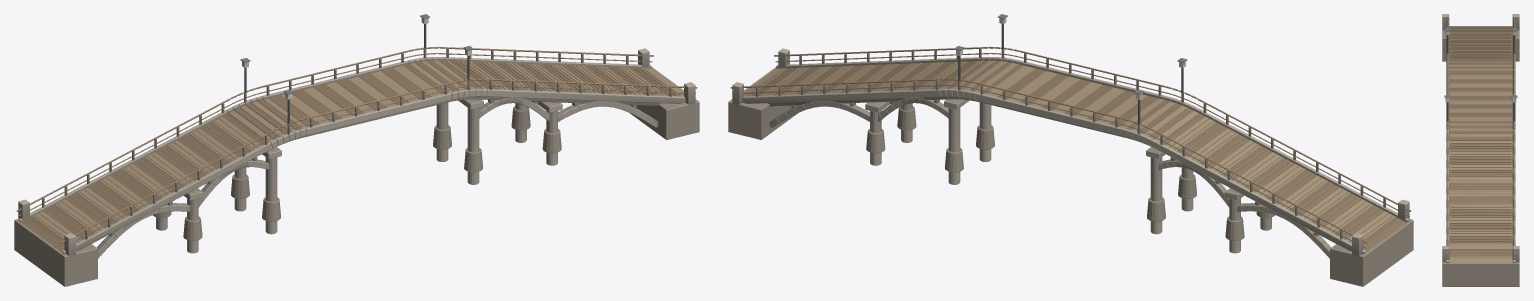
Rendered from bridge_yunseul_high.glb.
The picture shows the model from 3 angles, left to right: view 1: azimuth 30°, elevation 25°; view 2: azimuth 150°, elevation 25°; view 3: azimuth 270°, elevation 25°; orthographic projection. The views are drawn at different scales.
Bounding box in the file's own units: 56.76 × 12.1 × 7.8.
